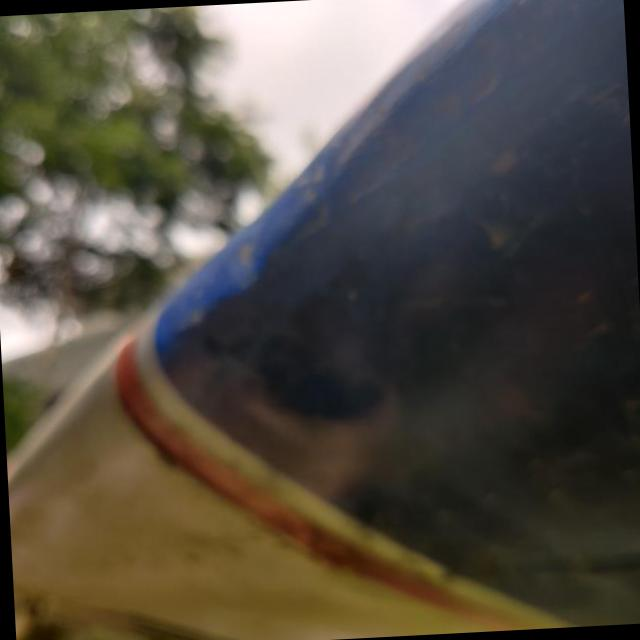Dent: (224, 291, 399, 497)
